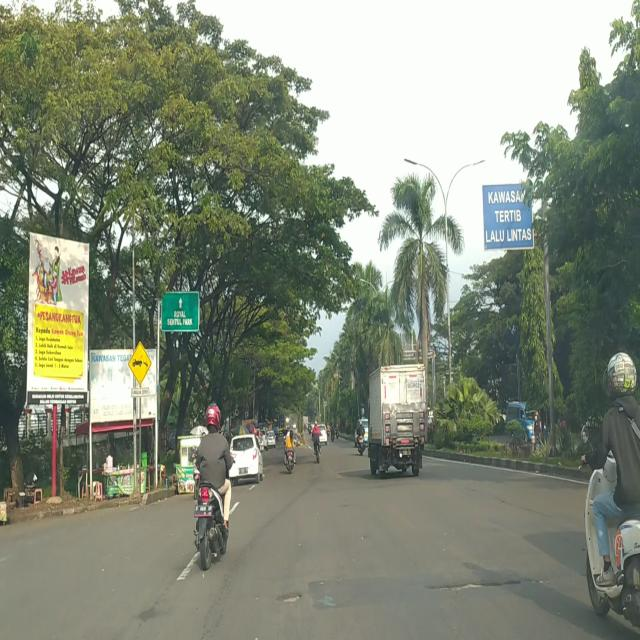Sewer Cover: (420, 576, 540, 597), (278, 590, 304, 606)
